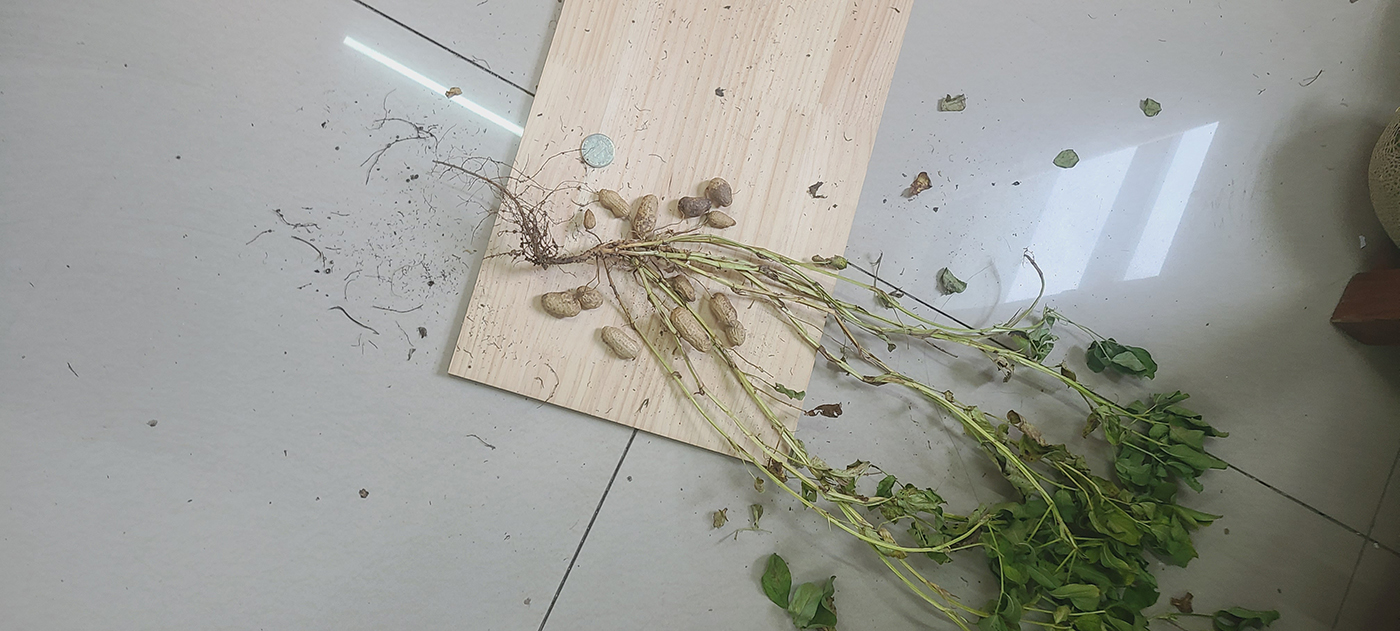h: (709, 291, 747, 346), (671, 307, 707, 351), (633, 193, 658, 239), (603, 327, 639, 358), (598, 188, 631, 219), (671, 274, 698, 303), (709, 211, 736, 229)
l: (540, 289, 580, 317), (709, 178, 734, 208), (677, 196, 712, 215), (576, 286, 604, 309)
